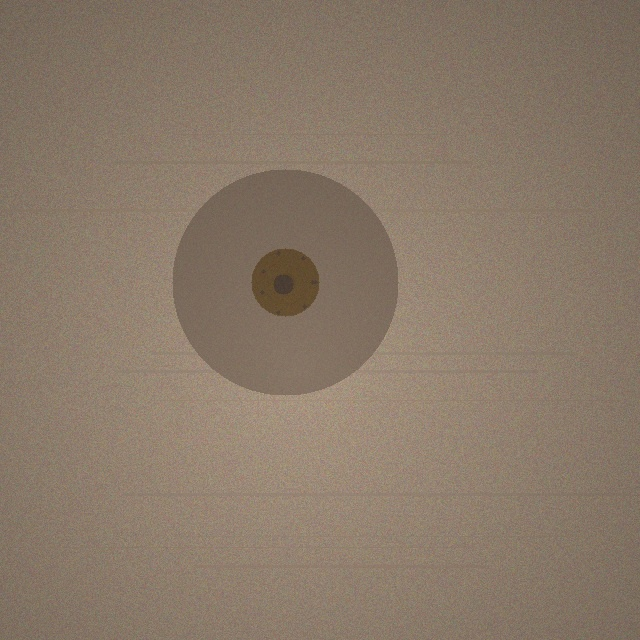cold_weld: (172, 169, 398, 395)
